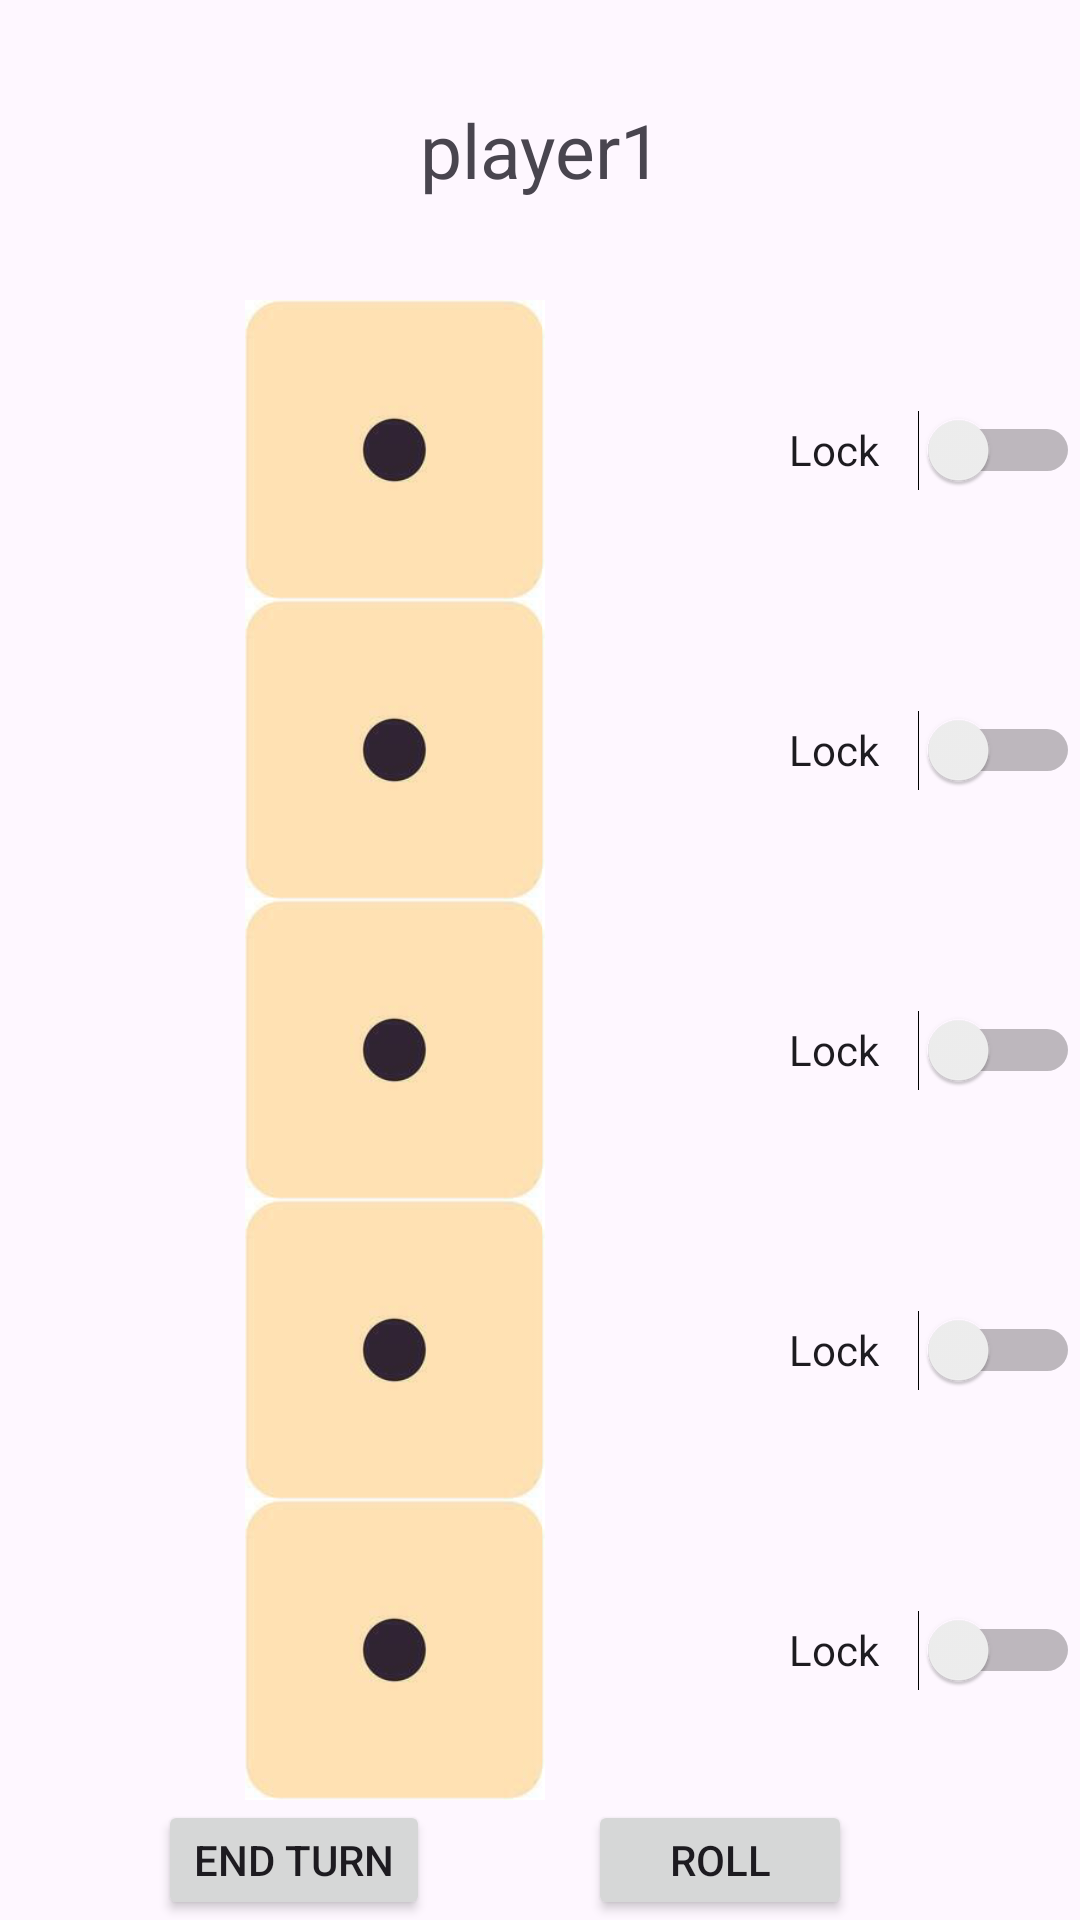

Icons on this 1080px×1920px Android screen, each with its box as (x1, y1, x2, y2):
dice: (245, 300, 543, 599), (245, 600, 543, 899), (245, 900, 543, 1199), (245, 1200, 543, 1499), (245, 1500, 543, 1799)
